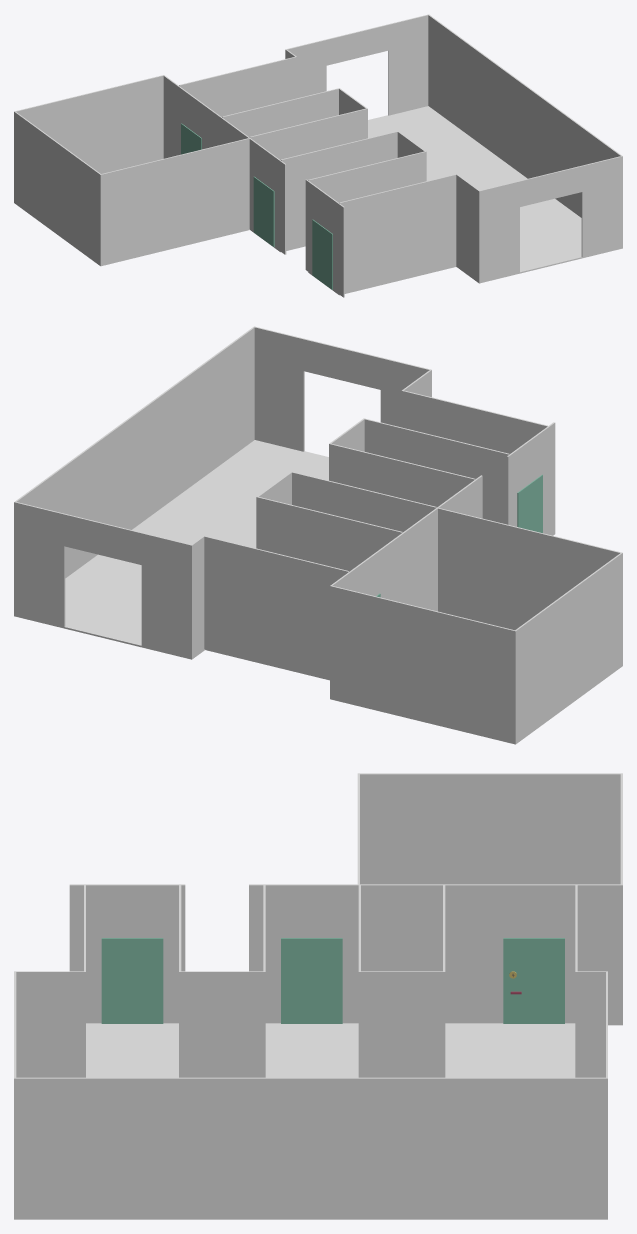
The picture shows the model from 3 angles, top to bottom: view 1: azimuth 30°, elevation 25°; view 2: azimuth 150°, elevation 25°; view 3: azimuth 270°, elevation 25°; orthographic projection. The views are drawn at different scales.
Parts seen in each view (by area): view 1: F2, F2_door; view 2: F2; view 3: F2, F2_door.
Boxes of the visible parts, x1,y1,x2,y2 form: F2: [14, 14, 622, 297]; F2_door: [181, 123, 201, 154]; F2: [14, 326, 622, 744]; F2: [14, 773, 622, 1219]; F2_door: [503, 938, 564, 1023].
Bounding box in the file's own units: 1648 × 354 × 1384.
